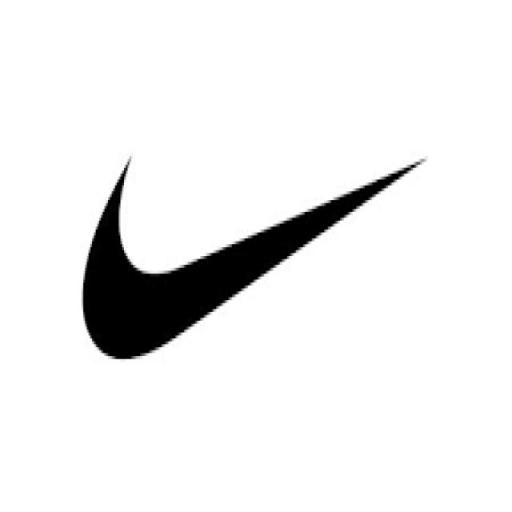Nike: (73, 144, 436, 374)
